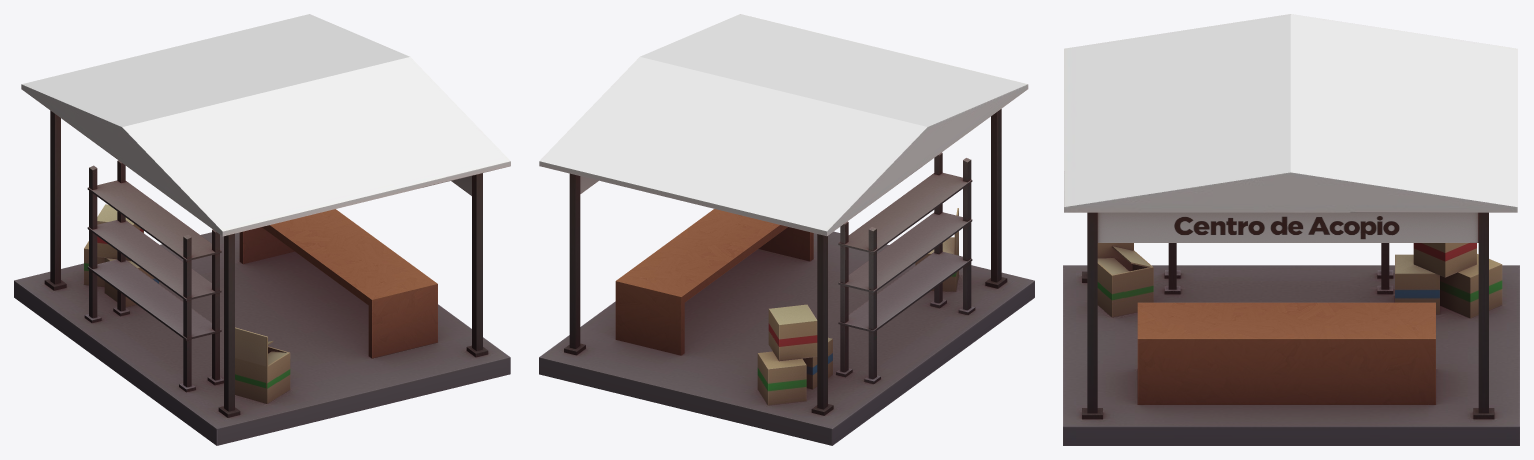
Rendered from punto-de-acopio.glb.
3 renders of one model, left to right at view 1: azimuth 30°, elevation 25°; view 2: azimuth 150°, elevation 25°; view 3: azimuth 270°, elevation 25°, orthographic. The views are drawn at different scales.
Visible parts, largest first — view 1: Cube.029, Cube.048, Cube.038, Cube.037, Cube.031, Cube.042; view 2: Cube.029, Cube.048, Cube.038, Cube.037, Cube.031, Cube.042; view 3: Cube.029, Cube.048, Cube.037, de_acopio_etiqueta.002, Cube.042, Cube.031, Cube.038.
Boxes of the visible parts, x1,y1,x2,y2 form: Cube.029: (21,14,510,236); Cube.048: (14,232,510,445); Cube.038: (84,160,223,392); Cube.037: (239,209,437,358); Cube.031: (44,110,488,417); Cube.042: (84,204,290,403); Cube.029: (539,14,1028,236); Cube.048: (539,231,1034,445); Cube.038: (836,152,975,383); Cube.037: (615,209,813,355); Cube.031: (564,109,1007,415); Cube.042: (757,208,958,405); Cube.029: (1064,14,1517,212); Cube.048: (1063,265,1519,445); Cube.037: (1137,302,1435,404); de_acopio_etiqueta.002: (1097,212,1478,242); Cube.042: (1097,243,1502,318); Cube.031: (1082,212,1494,419); Cube.038: (1164,243,1393,294).
Bounding box in the file's own units: 4.28 × 3.38 × 5.11.
9 materials, 9 textured.
